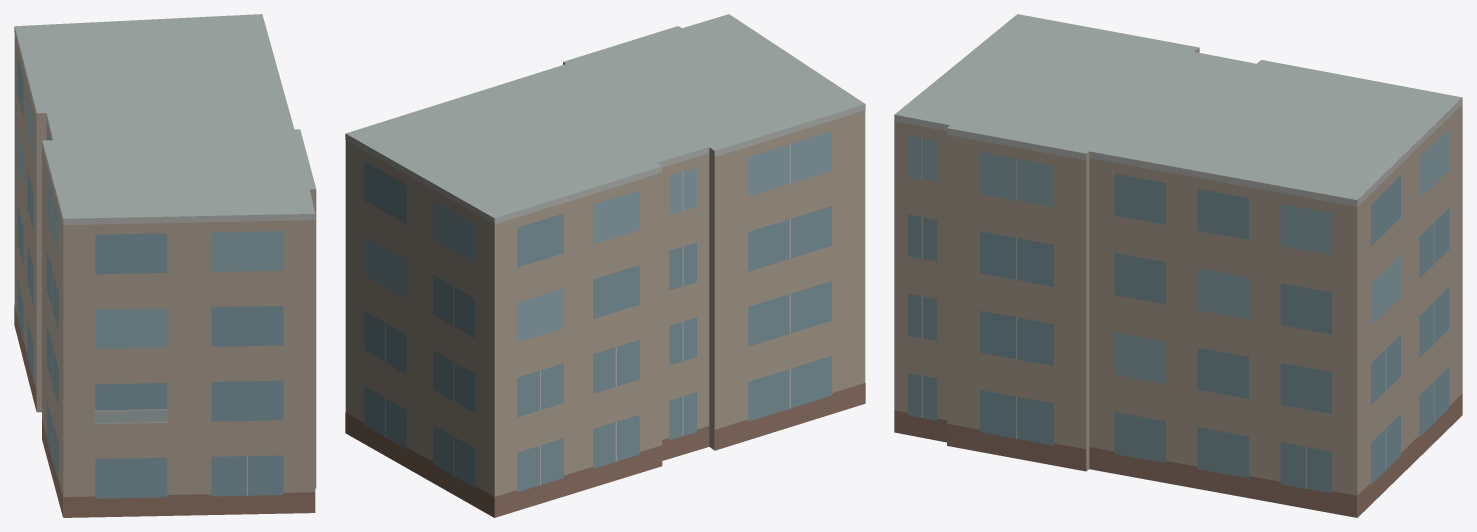
File: survey-upis-32523537.glb
3 renders of one model, left to right at view 1: azimuth 30°, elevation 25°; view 2: azimuth 150°, elevation 25°; view 3: azimuth 270°, elevation 25°, orthographic. The views are drawn at different scales.
Parts seen in each view (by area): view 1: survey-upis-32523537.tmp; view 2: survey-upis-32523537.tmp; view 3: survey-upis-32523537.tmp.
Boxes of the visible parts, box(x1,y1,x2,y2) form: survey-upis-32523537.tmp: box(14, 14, 316, 517); survey-upis-32523537.tmp: box(345, 14, 865, 517); survey-upis-32523537.tmp: box(894, 14, 1462, 517).
Size of the model in its own units: 14.71 by 11.7 by 18.97.
